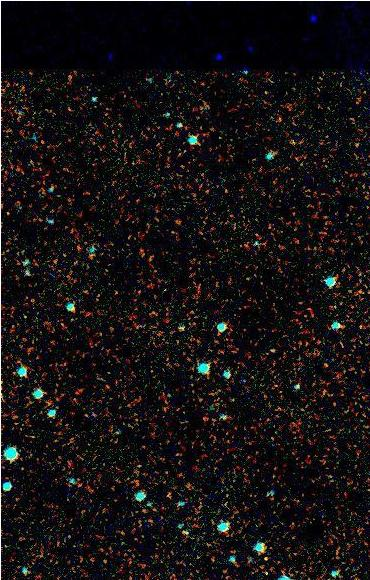star: (262, 333, 292, 363)
